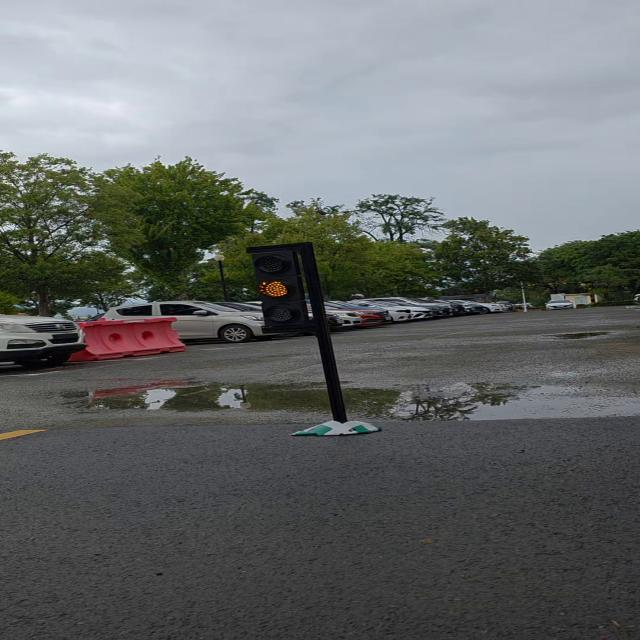yellow: (243, 240, 327, 339)
